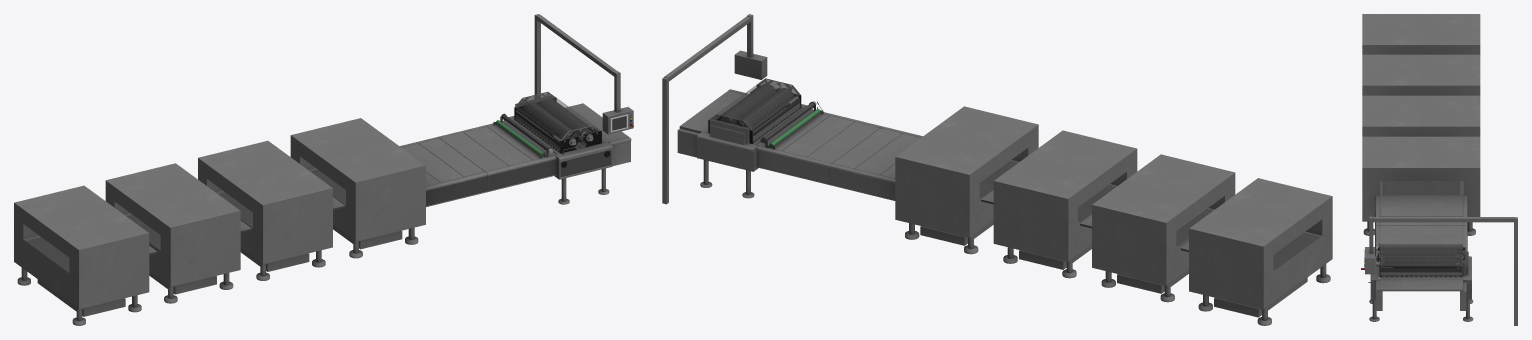
The model's file is laminadora.fbx.
The picture shows the model from 3 angles, left to right: view 1: azimuth 30°, elevation 25°; view 2: azimuth 150°, elevation 25°; view 3: azimuth 270°, elevation 25°; orthographic projection. The views are drawn at different scales.
Visible parts, largest first — view 1: polySurface690, polySurface601, polySurface670, polySurface680, polySurface41 (×2), polySurface623, polySurface597, polySurface596, polySurface646, polySurface622, polySurface595, pCylinder8 (+12 smaller); view 2: polySurface690, polySurface670, polySurface601, polySurface680, polySurface41 (×2), polySurface608, polySurface597, polySurface596, polySurface651, polySurface605, polySurface595, pCylinder8 (+13 smaller); view 3: polySurface601, polySurface670, polySurface680, polySurface690, polySurface43 (×2), polySurface649, polySurface41 (×2), polySurface590, polySurface598, polySurface599, polySurface597, polySurface596 (+16 smaller).
Boxes of the visible parts, <box> form: polySurface690: <box>14,185,149,309</box>; polySurface601: <box>290,118,425,241</box>; polySurface670: <box>198,140,332,264</box>; polySurface680: <box>105,163,240,286</box>; polySurface41 (×2): <box>523,92,592,131</box>; polySurface623: <box>487,159,556,191</box>; polySurface597: <box>440,132,508,171</box>; polySurface596: <box>463,127,532,165</box>; polySurface646: <box>554,148,612,179</box>; polySurface622: <box>426,176,487,206</box>; polySurface595: <box>419,138,484,176</box>; pCylinder8: <box>487,120,555,159</box>; polySurface690: <box>1189,178,1332,309</box>; polySurface670: <box>993,130,1137,261</box>; polySurface601: <box>895,106,1038,237</box>; polySurface680: <box>1092,154,1235,285</box>; polySurface41 (×2): <box>717,78,791,120</box>; polySurface608: <box>756,150,829,184</box>; polySurface597: <box>807,122,879,163</box>; polySurface596: <box>782,115,854,157</box>; polySurface651: <box>697,138,758,171</box>; polySurface605: <box>829,168,895,200</box>; polySurface595: <box>832,128,902,168</box>; pCylinder8: <box>757,102,829,150</box>; polySurface601: <box>1362,136,1480,221</box>; polySurface670: <box>1362,95,1480,136</box>; polySurface680: <box>1362,54,1480,95</box>; polySurface690: <box>1362,14,1480,54</box>; polySurface43 (×2): <box>1380,244,1462,266</box>; polySurface649: <box>1379,279,1462,291</box>; polySurface41 (×2): <box>1380,244,1462,255</box>; polySurface590: <box>1382,256,1455,268</box>; polySurface598: <box>1379,195,1462,205</box>; polySurface599: <box>1379,206,1462,216</box>; polySurface597: <box>1379,226,1462,236</box>; polySurface596: <box>1379,236,1462,246</box>.
Bounding box in the file's own units: 227 × 45.86 × 60.59.
